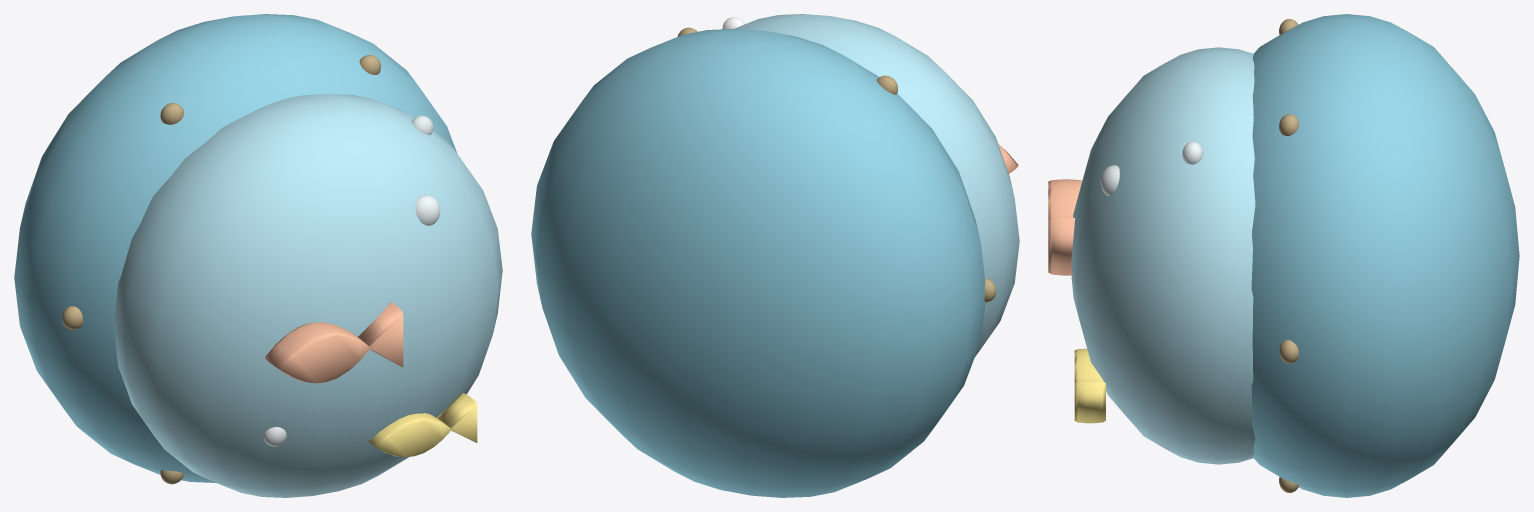
Rendered from decor_2_classic.glb.
3 views of the same model, side by side, from view 1: azimuth 30°, elevation 25°; view 2: azimuth 150°, elevation 25°; view 3: azimuth 270°, elevation 25° (orthographic).
Visible parts, largest first — view 1: decor_2_classic; view 2: decor_2_classic; view 3: decor_2_classic.
Part boxes in pixels (<box>): decor_2_classic: <box>14,14,502,497</box>; decor_2_classic: <box>531,14,1019,497</box>; decor_2_classic: <box>1048,14,1519,497</box>.
Bounding box in the file's own units: 11.6 × 11.6 × 11.29.
